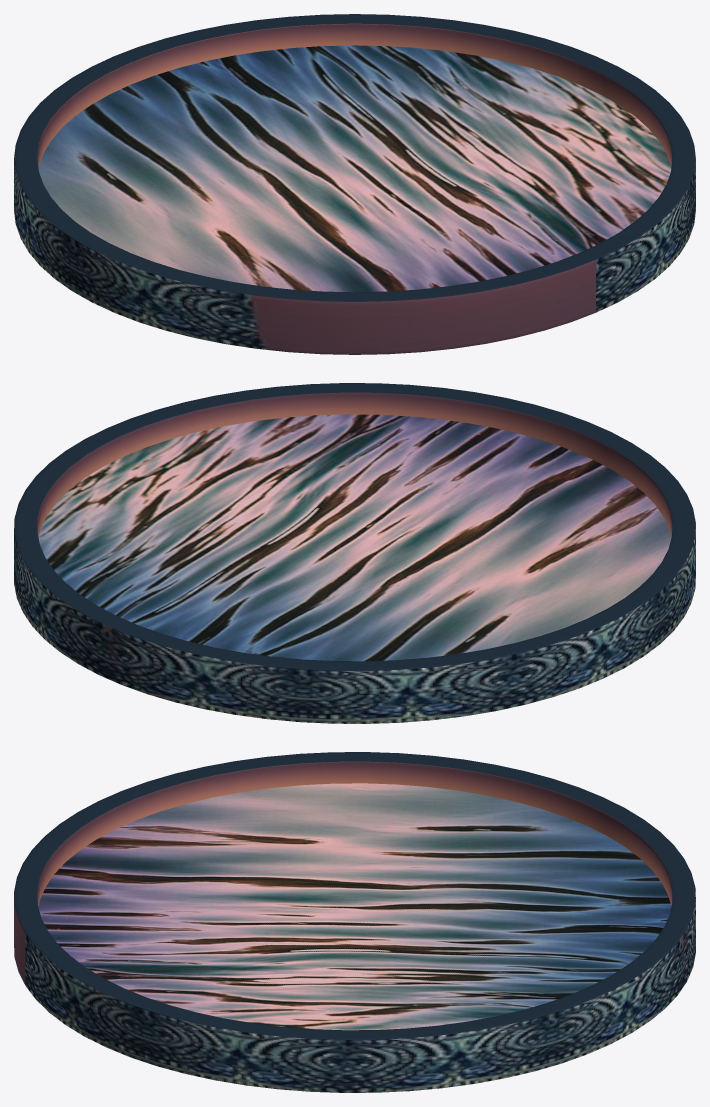
3 views of the same model, one above another, from view 1: azimuth 30°, elevation 25°; view 2: azimuth 150°, elevation 25°; view 3: azimuth 270°, elevation 25° (orthographic).
Visible parts, largest first — view 1: Disc; view 2: Disc; view 3: Disc.
Boxes of the visible parts, x1,y1,x2,y2 form: Disc: (14, 14, 695, 354); Disc: (14, 383, 695, 723); Disc: (14, 752, 695, 1092).
Size of the model in its own units: 1.44 by 0.125 by 1.44.
1 material, 1 textured.
